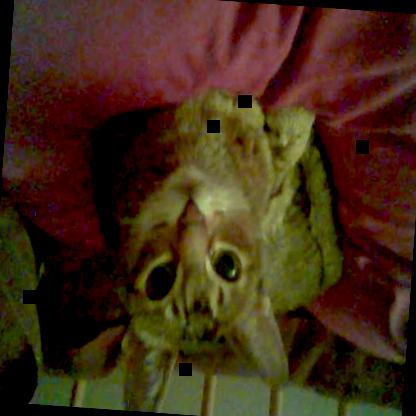cat: (82, 82, 355, 415)
